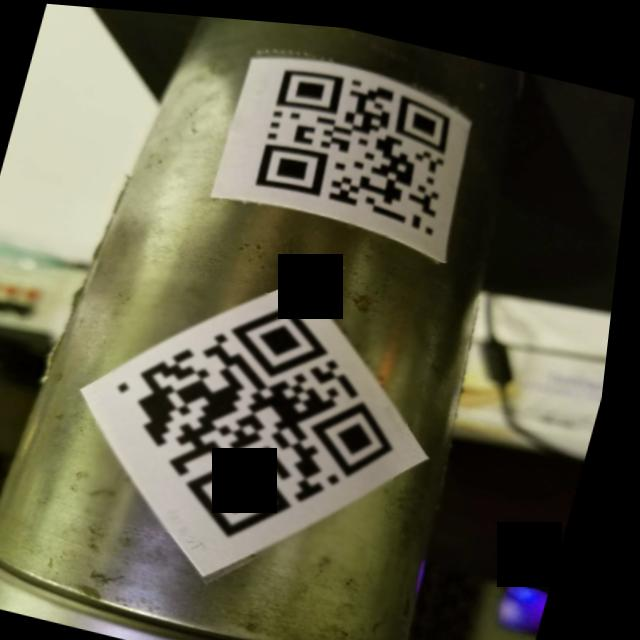QR_CODE: (79, 257, 444, 576), (228, 41, 483, 244)
